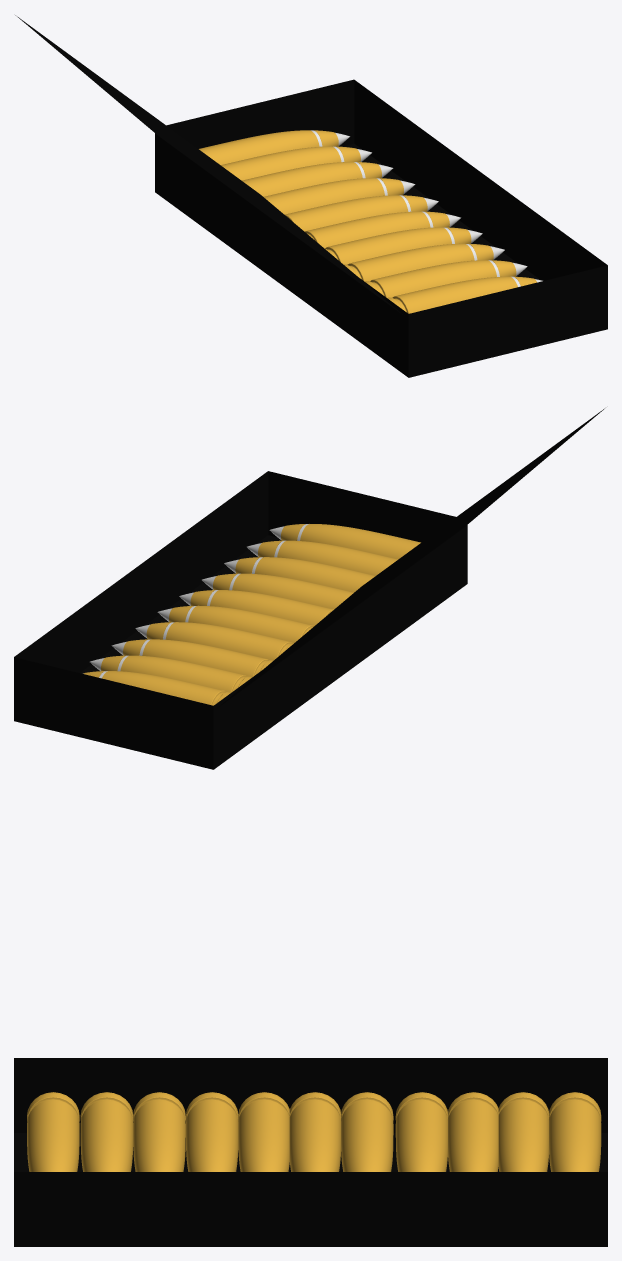
The model's file is ammo.fbx.
3 views of the same model, one above another, from view 1: azimuth 30°, elevation 25°; view 2: azimuth 150°, elevation 25°; view 3: azimuth 270°, elevation 25° (orthographic). The views are drawn at different scales.
Parts seen in each view (by area): view 1: Bullet; view 2: Bullet; view 3: Bullet.
Part boxes in pixels (x1,y1,x2,y2): Bullet: (15,15,607,377); Bullet: (14,408,604,769); Bullet: (14,1058,607,1246).
Bounding box in the file's own units: 345 × 207 × 441.
